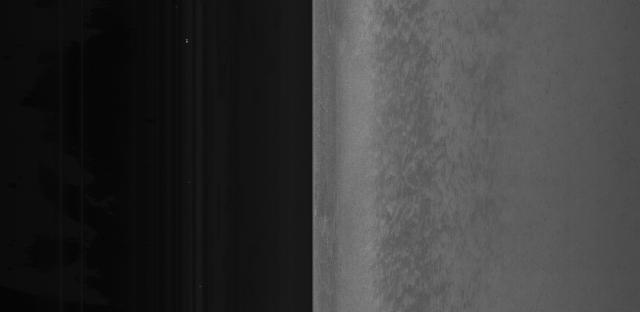silk_spot: (374, 57, 452, 231)
